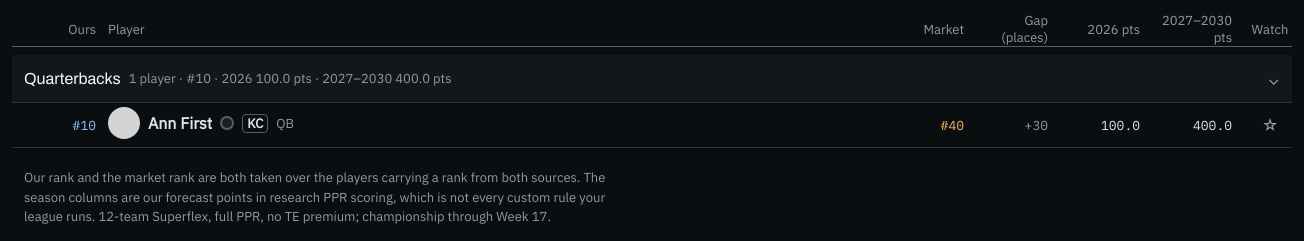
WorkspaceRosterGroups — collapsing a group › collapses and reopens through a native button with honest state
Click the button that starts with "Quarterbacks" at (72, 78), box [12,55,1292,103]
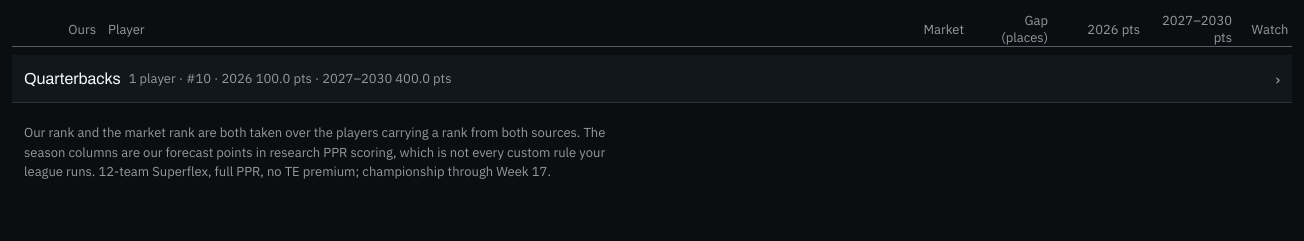
Now the button is collapsed
Click the button at (72, 78), box [12,55,1292,103]
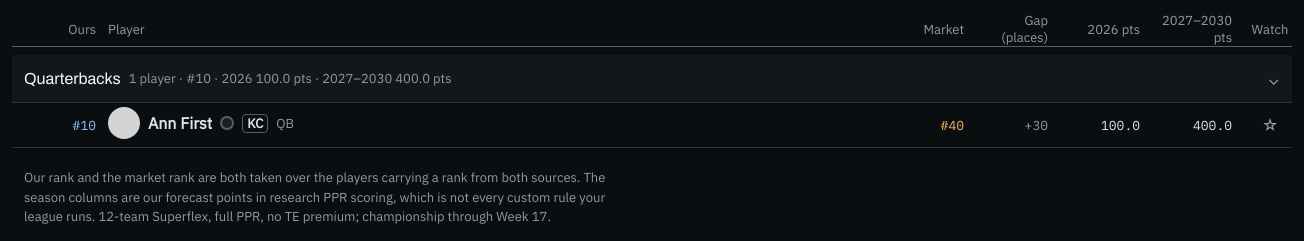
Now the button that starts with "Quarterbacks" is expanded, box [12,55,1292,103]
